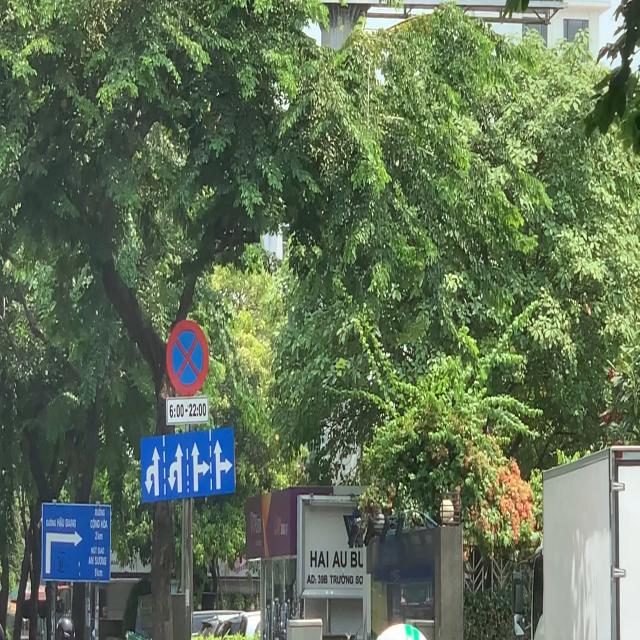Cam dung va do: (166, 319, 209, 397)
